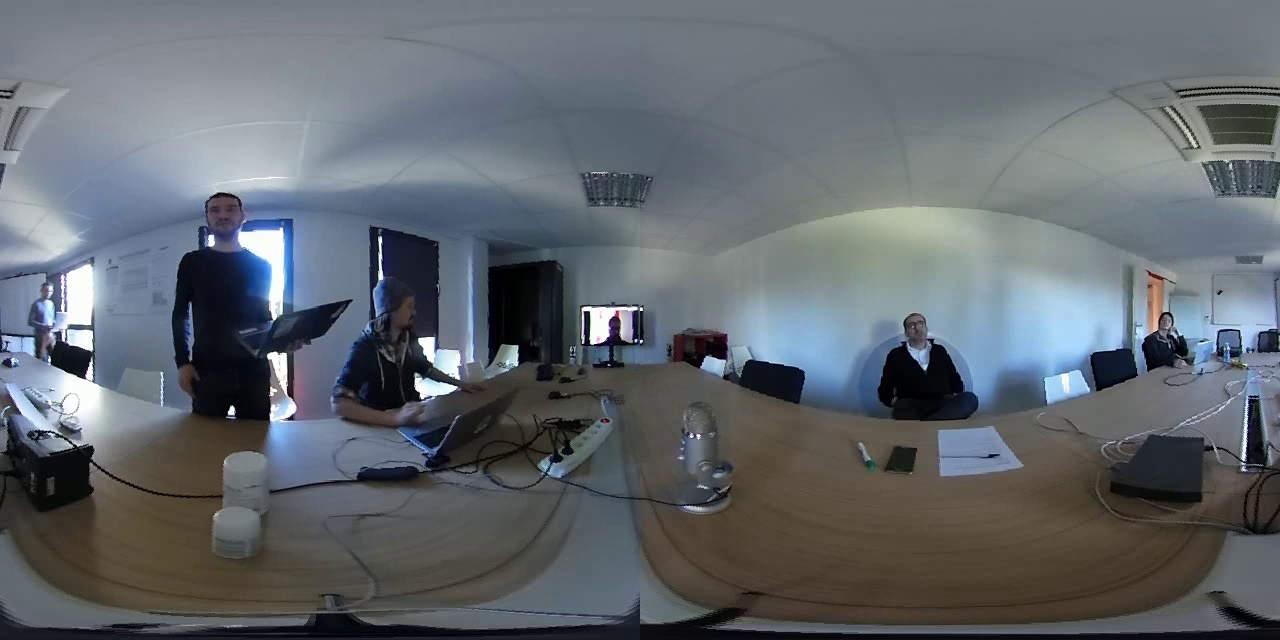person: (162, 177, 282, 392), (337, 276, 482, 421), (876, 301, 974, 412), (20, 273, 77, 350), (1144, 304, 1194, 371), (586, 303, 640, 341)
